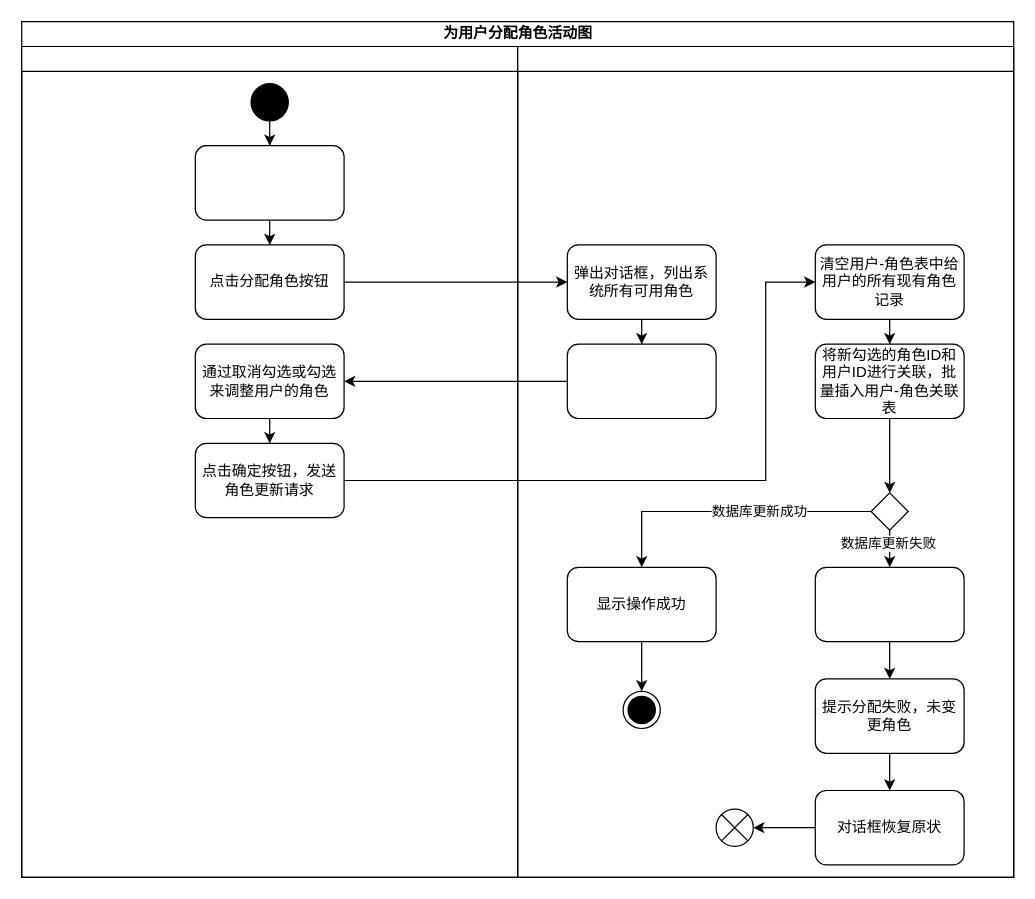
This 1035x899 diagram has some shape labels left out. Each missing label, with the box of its shape:
回滚数据库操作: (814, 566, 964, 642)
在用户管理界面选择一个用户: (194, 144, 344, 220)
系统: (516, 45, 1014, 877)
超级管理员: (20, 45, 518, 877)
通过用户-角色关联表查询该用户当前已拥有角色，并在对话框中自动勾选: (566, 343, 716, 418)
